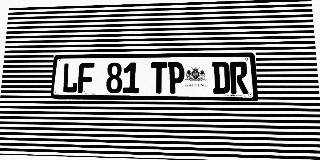1: (122, 62, 139, 93)
8: (106, 62, 123, 93)
D: (212, 62, 230, 94)
F: (78, 63, 94, 93)
L: (62, 63, 79, 93)
P: (168, 62, 185, 93)
R: (230, 61, 248, 94)
T: (151, 62, 167, 93)
